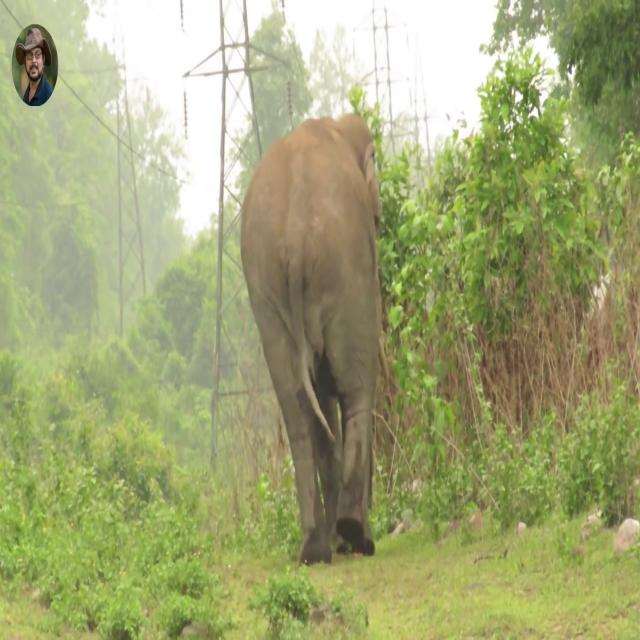Elephant: (239, 111, 394, 566)
person: (15, 26, 53, 106)
